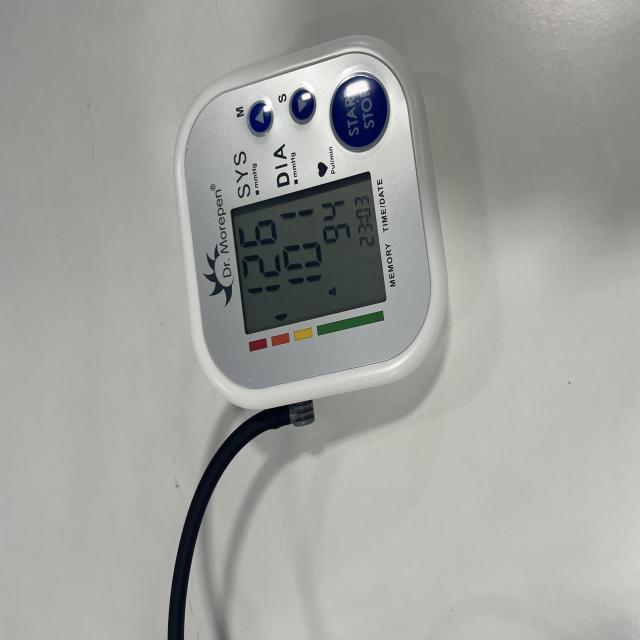bp: (173, 36, 438, 414)
